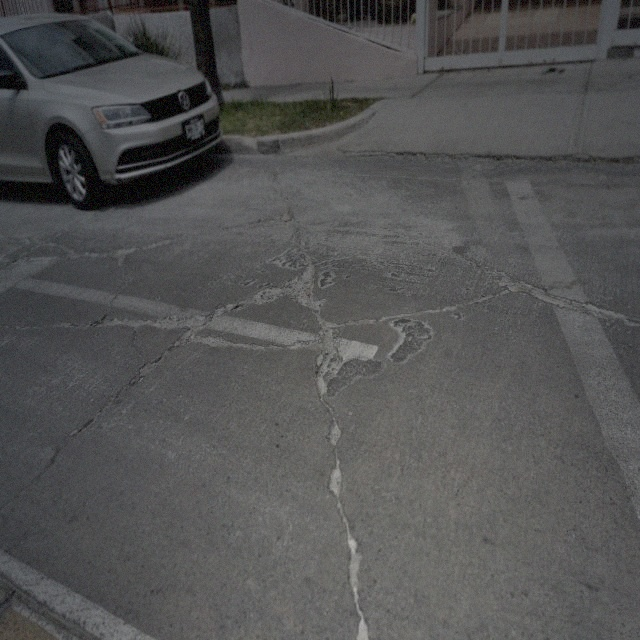pothole: (313, 330, 379, 398), (288, 262, 322, 318), (346, 539, 366, 598), (584, 297, 622, 325), (532, 281, 562, 310), (195, 331, 234, 352), (249, 283, 283, 307), (326, 416, 346, 451), (499, 272, 529, 294), (329, 462, 344, 499), (138, 358, 159, 384), (92, 314, 125, 329), (354, 616, 370, 635)
